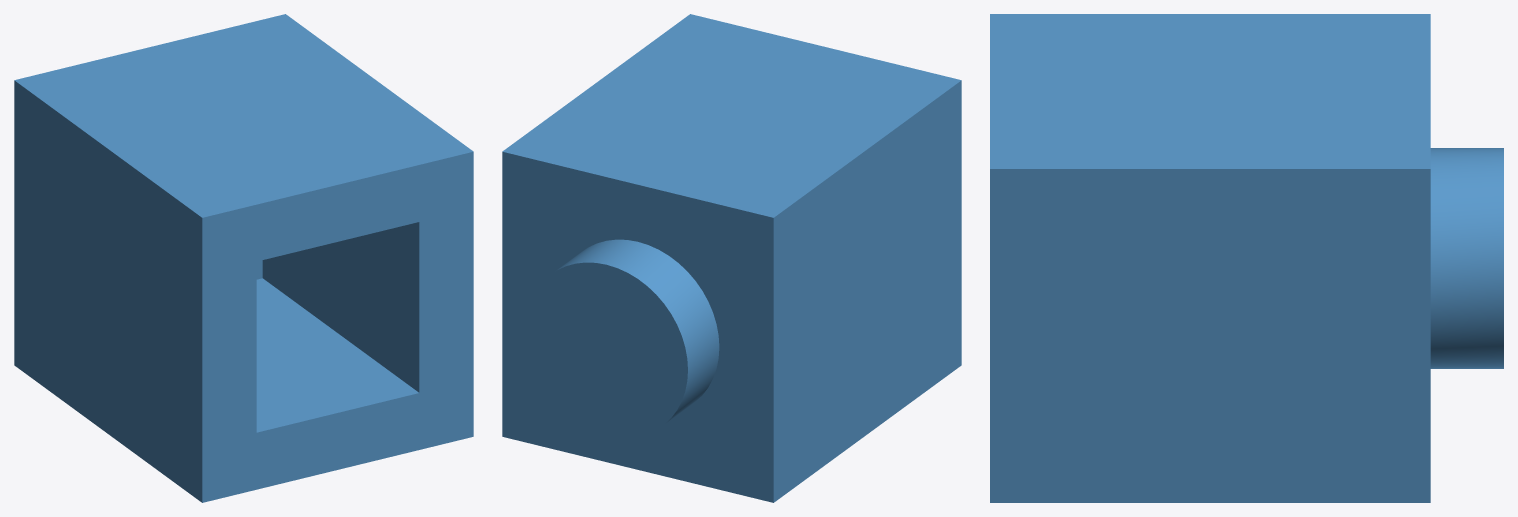
Rendered from lago.dae.
The picture shows the model from 3 angles, left to right: view 1: azimuth 30°, elevation 25°; view 2: azimuth 150°, elevation 25°; view 3: azimuth 270°, elevation 25°; orthographic projection. The views are drawn at different scales.
Parts seen in each view (by area): view 1: Inner-Node-UntitledModel_dot_io-0; view 2: Inner-Node-UntitledModel_dot_io-0; view 3: Inner-Node-UntitledModel_dot_io-0.
Part boxes in pixels (x1,y1,x2,y2): Inner-Node-UntitledModel_dot_io-0: (14, 14, 473, 502); Inner-Node-UntitledModel_dot_io-0: (502, 14, 961, 502); Inner-Node-UntitledModel_dot_io-0: (990, 14, 1503, 502).
Bounding box in the file's own units: 19.75 × 19.82 × 27.65.
